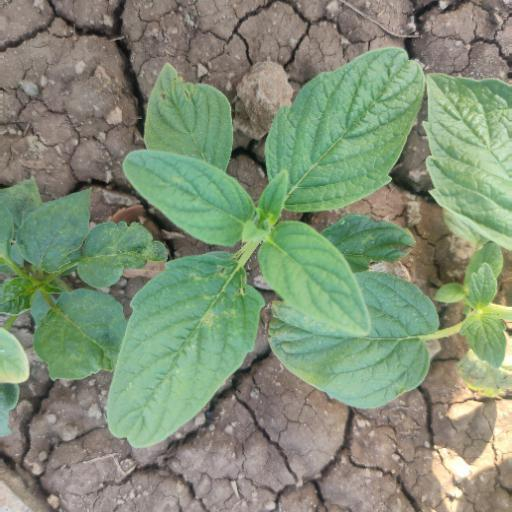crop: (106, 53, 438, 423), (2, 174, 175, 400)
